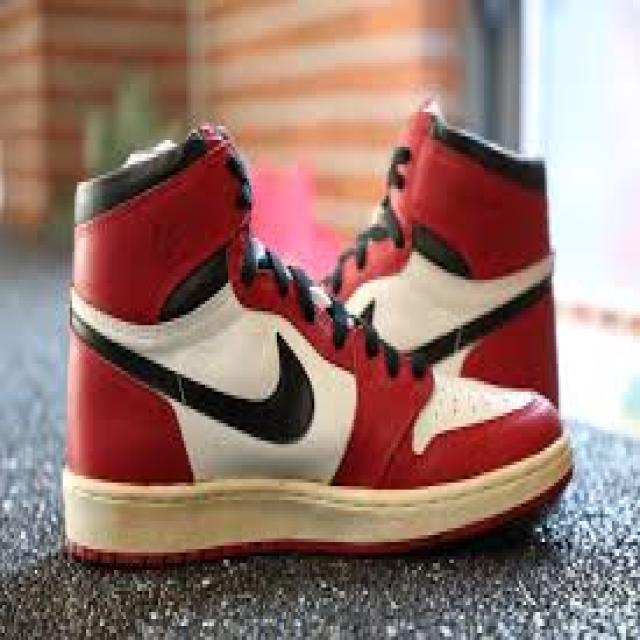shoe: (65, 120, 577, 554), (300, 98, 594, 455)
